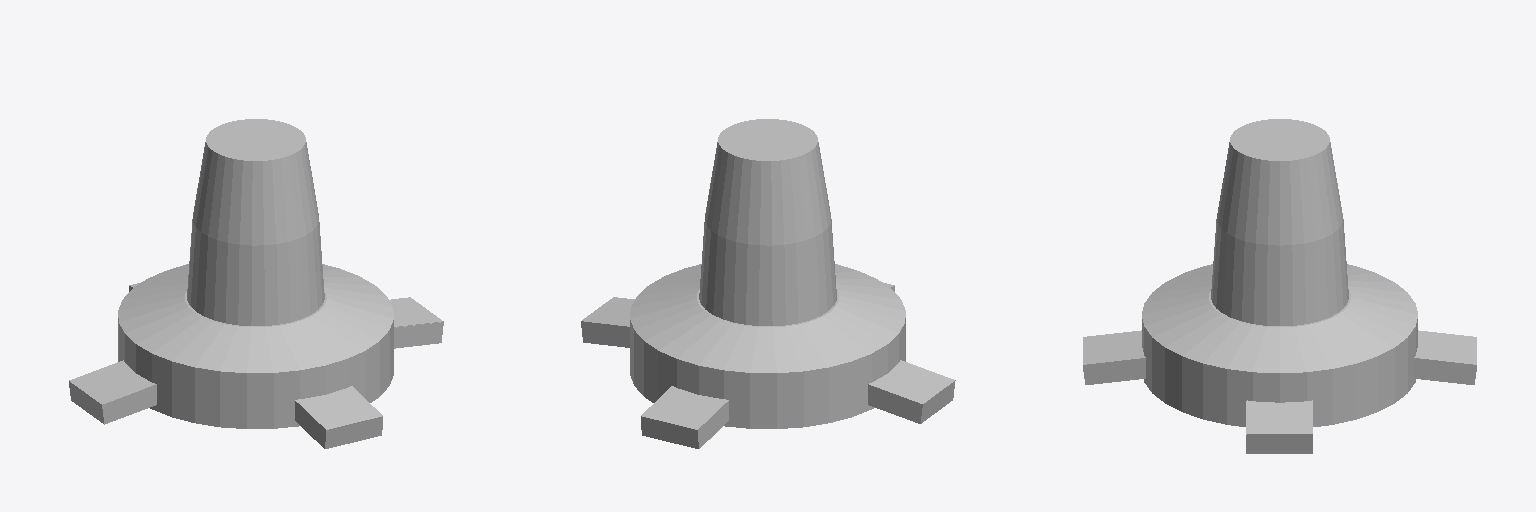
Rendered from BattleshipFoot.obj.
3 views of the same model, side by side, from view 1: azimuth 30°, elevation 25°; view 2: azimuth 150°, elevation 25°; view 3: azimuth 270°, elevation 25° (orthographic).
Parts seen in each view (by area): view 1: Cylinder.001; view 2: Cylinder.001; view 3: Cylinder.001.
Part boxes in pixels (left/top/right/bottom): Cylinder.001: left=69, top=119, right=443, bottom=448; Cylinder.001: left=581, top=119, right=955, bottom=448; Cylinder.001: left=1083, top=119, right=1476, bottom=453.
Bounding box in the file's own units: 4.28 × 2.78 × 4.28.